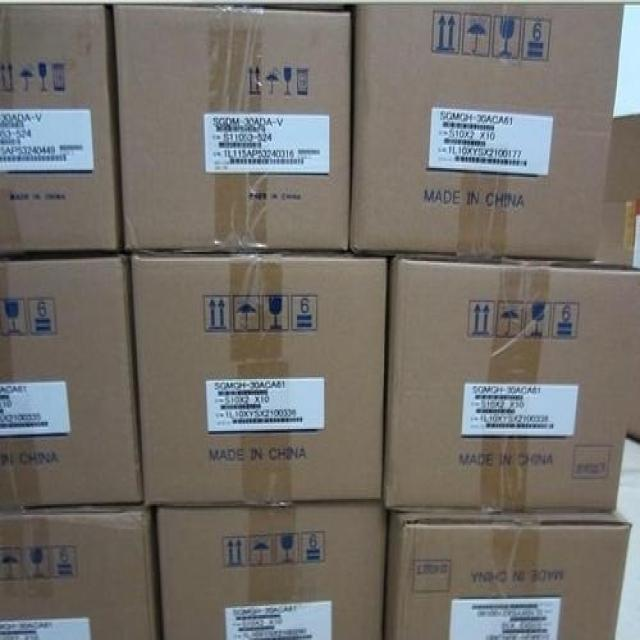box: (348, 6, 625, 263), (381, 255, 638, 507), (133, 255, 388, 505), (113, 6, 353, 251), (2, 252, 144, 508), (154, 501, 390, 637), (385, 506, 632, 635), (0, 6, 122, 252), (0, 507, 160, 637), (599, 114, 639, 268), (629, 380, 639, 442)
